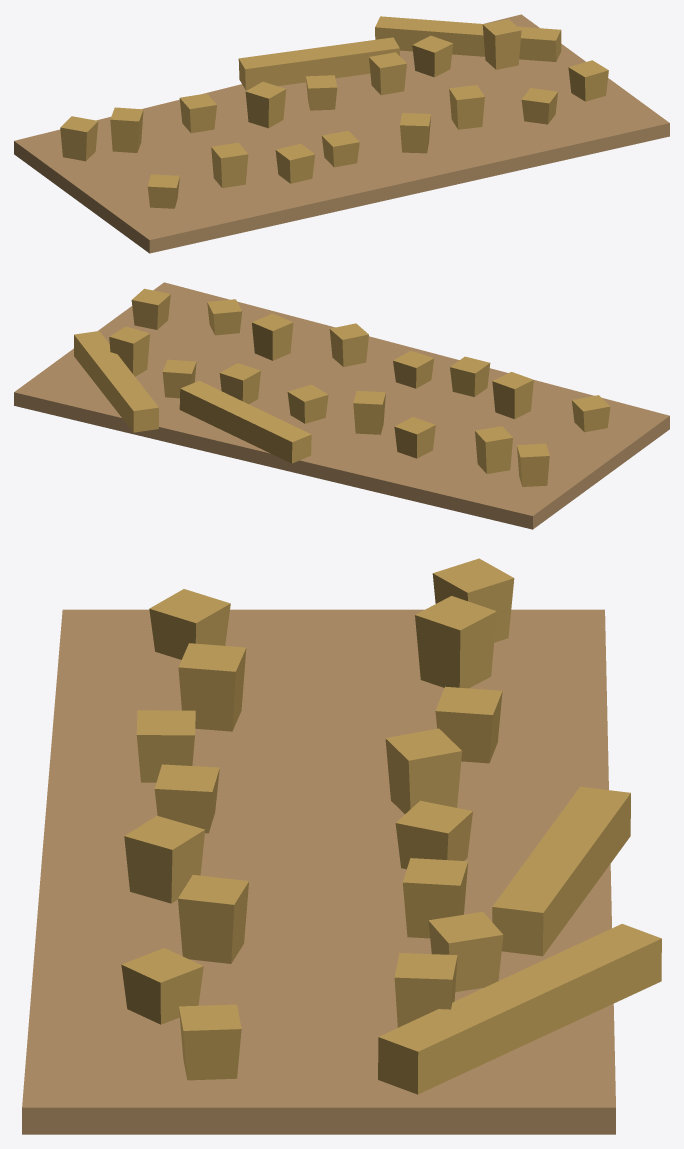
File: work-row-stubble.glb
3 renders of one model, top to bottom at view 1: azimuth 30°, elevation 25°; view 2: azimuth 150°, elevation 25°; view 3: azimuth 270°, elevation 25°, orthographic. The views are drawn at different scales.
Parts seen in each view (by area): view 1: work-row-stubble; view 2: work-row-stubble; view 3: work-row-stubble.
Boxes of the visible parts, x1,y1,x2,y2 form: work-row-stubble: (14,14,669,253); work-row-stubble: (14,282,669,529); work-row-stubble: (22,558,661,1134).
Bounding box in the file's own units: 2 × 0.1928 × 1.09.
Materials: 1 (1 with a texture image).
